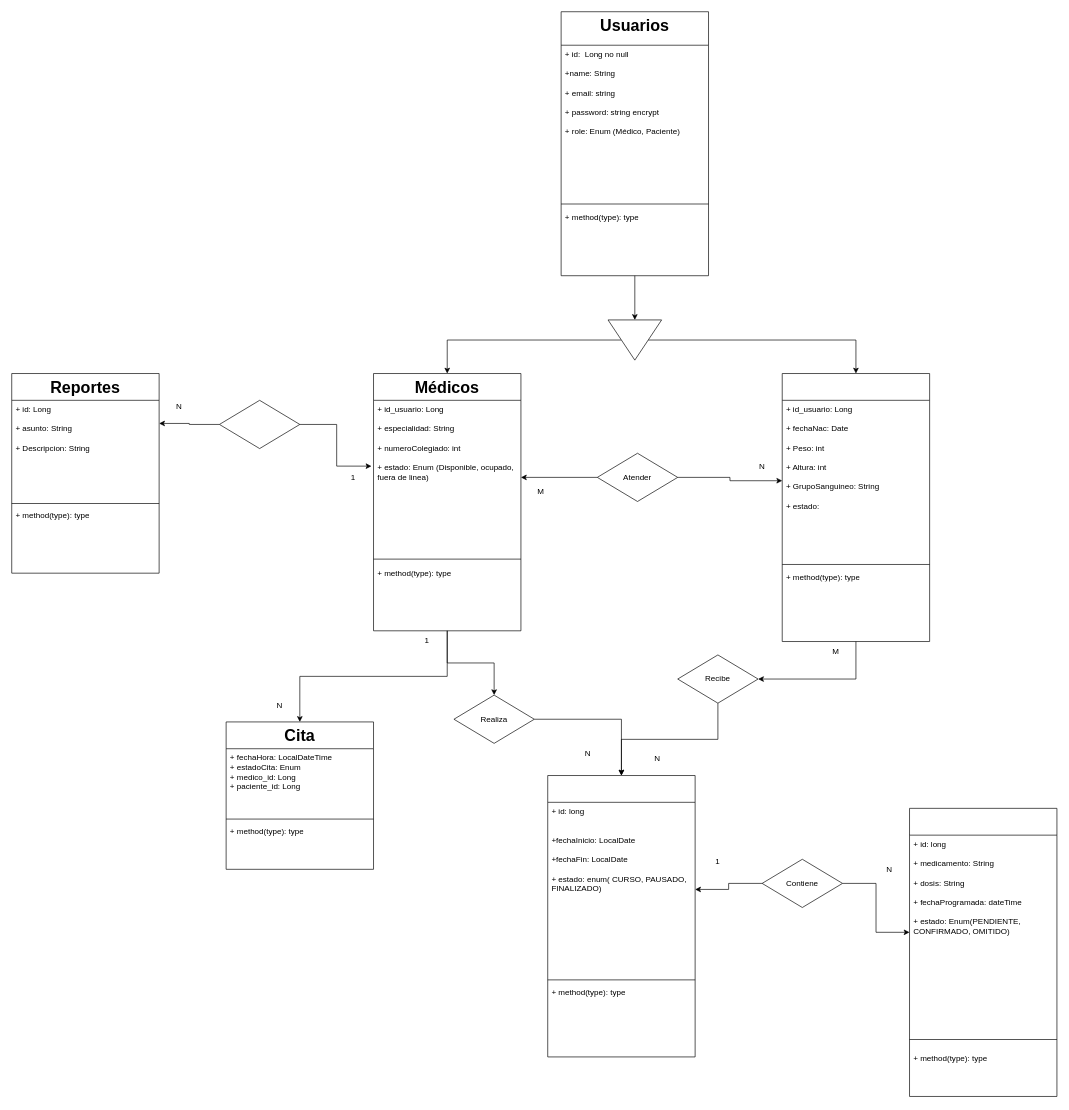
Some shapes in this 1069 by 1110 pixel diagram are drawn without their labels. The box of each missing label's shape, as (x1, y1, x2, y2) in pixels:
Pacientes: (782, 373, 930, 642)
Realizar: (219, 400, 300, 449)
Recordatorio: (909, 808, 1057, 1096)
Tratamientos: (547, 775, 695, 1057)
